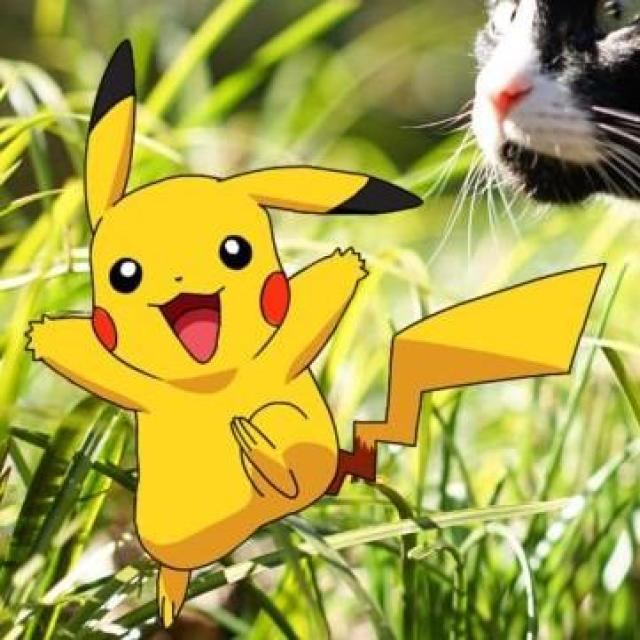pikachu: (24, 42, 602, 628)
